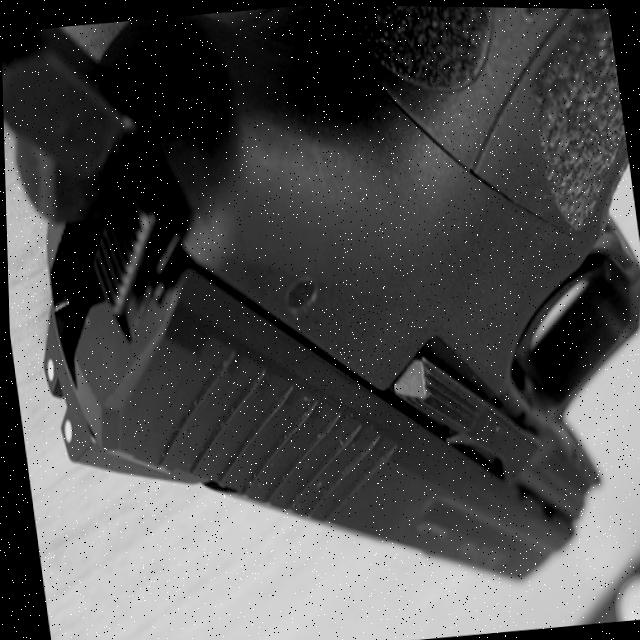pistol: (0, 0, 640, 631)
